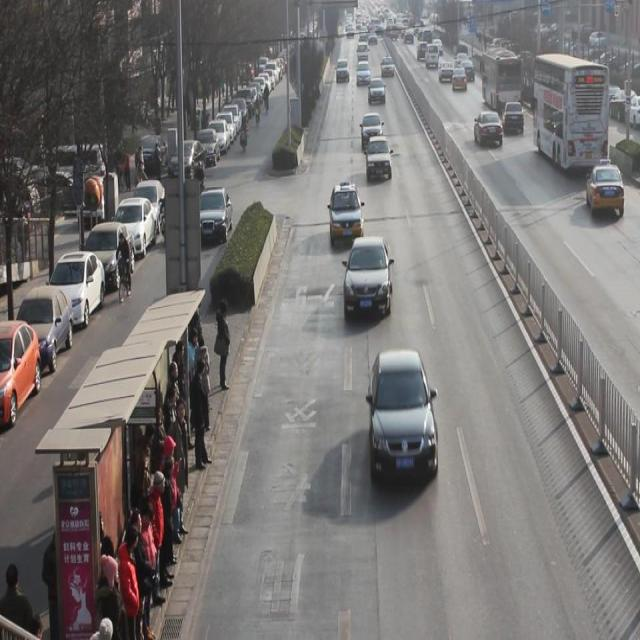car: (370, 350, 440, 482), (344, 236, 393, 320), (587, 163, 626, 217), (330, 185, 364, 246), (367, 136, 393, 182), (475, 112, 504, 150), (363, 113, 384, 151), (504, 100, 525, 136), (369, 78, 387, 106), (452, 68, 468, 92)
van: (534, 52, 610, 172), (480, 45, 523, 110)
